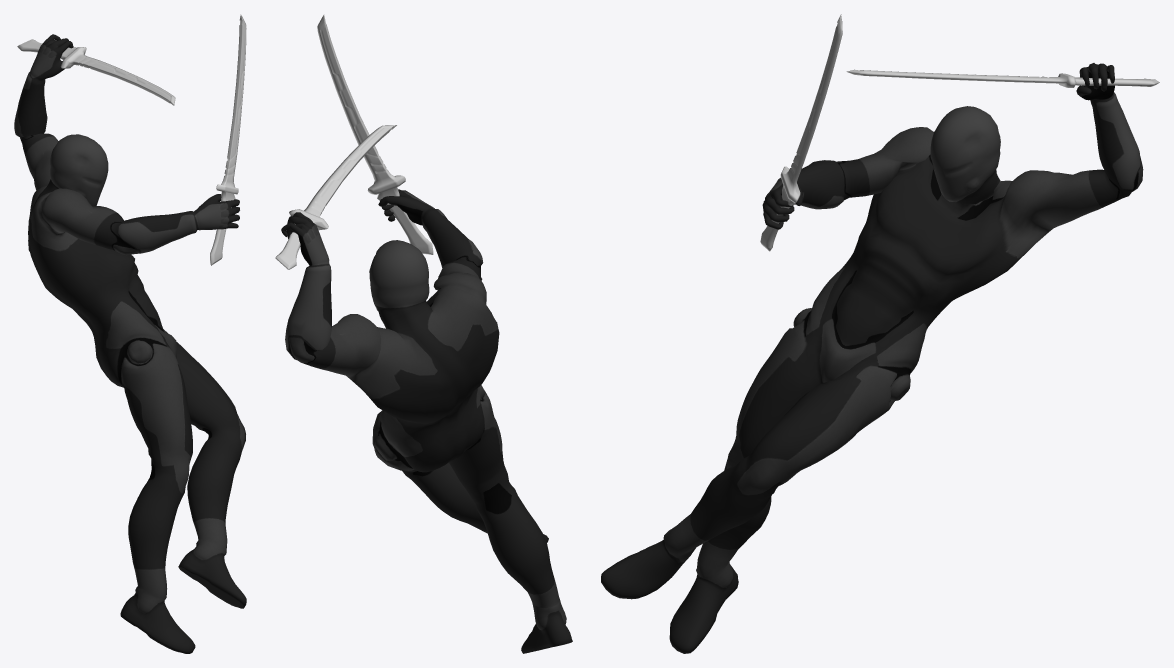
The picture shows the model from 3 angles, left to right: view 1: azimuth 30°, elevation 25°; view 2: azimuth 150°, elevation 25°; view 3: azimuth 270°, elevation 25°; orthographic projection. The views are drawn at different scales.
Visible parts, largest first — view 1: Cyborg_Ninja_Killer, Sword_l001, Sword_l; view 2: Cyborg_Ninja_Killer, Sword_l001, Sword_l; view 3: Cyborg_Ninja_Killer, Sword_l001, Sword_l.
Boxes of the visible parts, x1,y1,x2,y2 form: Cyborg_Ninja_Killer: [14, 34, 246, 653]; Sword_l001: [210, 14, 246, 265]; Sword_l: [17, 39, 175, 105]; Cyborg_Ninja_Killer: [281, 189, 572, 653]; Sword_l001: [317, 14, 433, 254]; Sword_l: [275, 125, 396, 269]; Cyborg_Ninja_Killer: [601, 63, 1143, 653]; Sword_l001: [760, 14, 842, 251]; Sword_l: [846, 69, 1159, 87].
Bounding box in the file's own units: 72.88 × 218 × 156.
